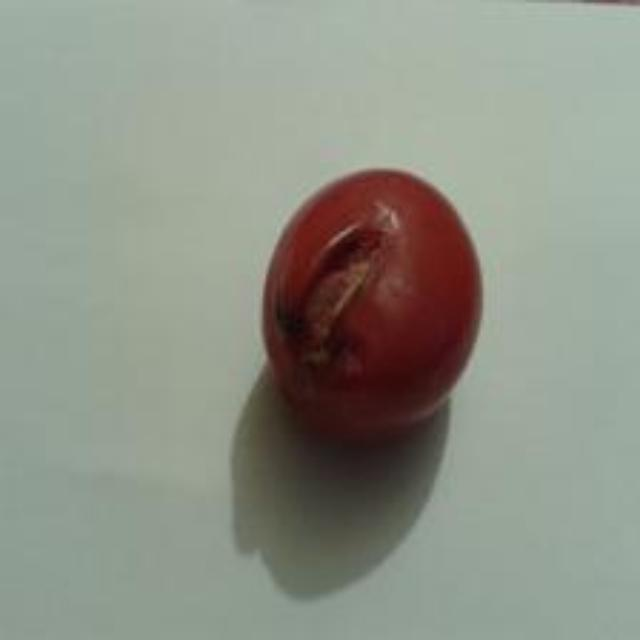defect: (259, 163, 488, 436)
